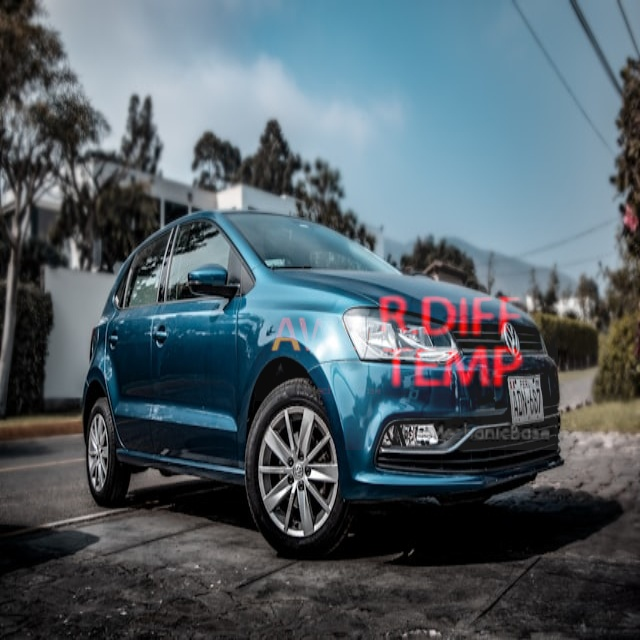symbol: (345, 237, 558, 450), (255, 270, 386, 401)
